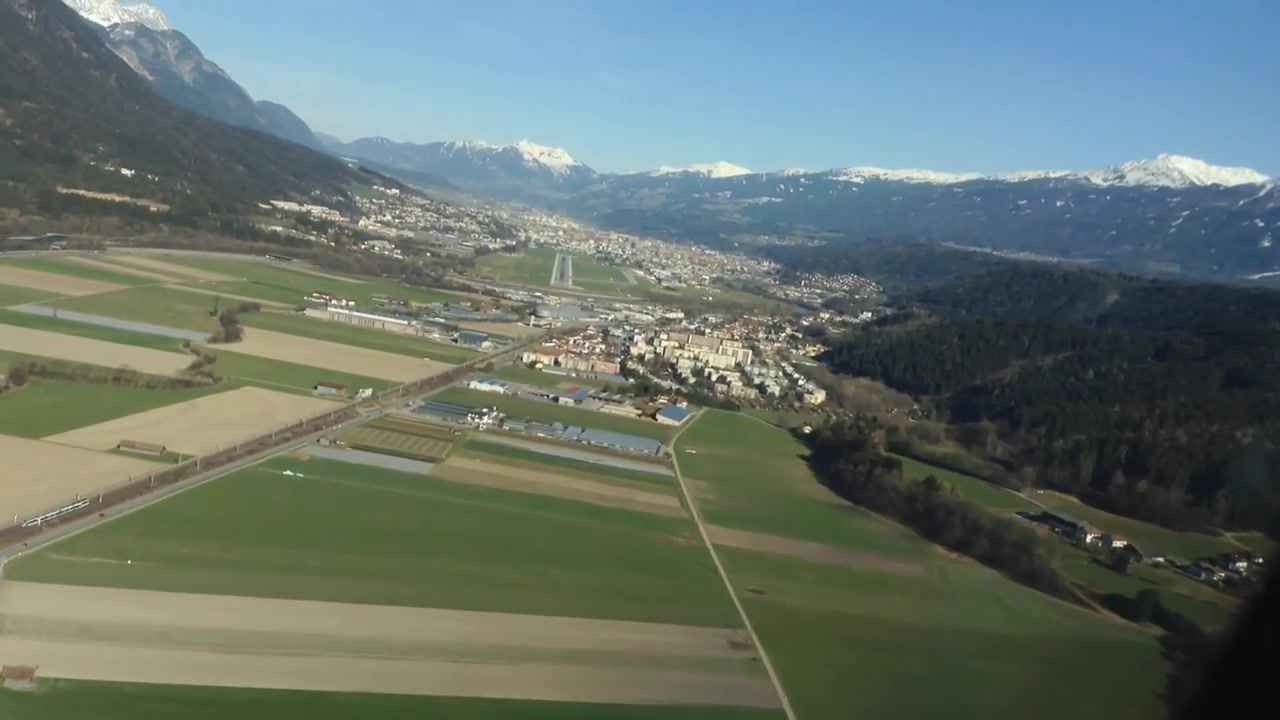runway: (548, 252, 575, 288)
